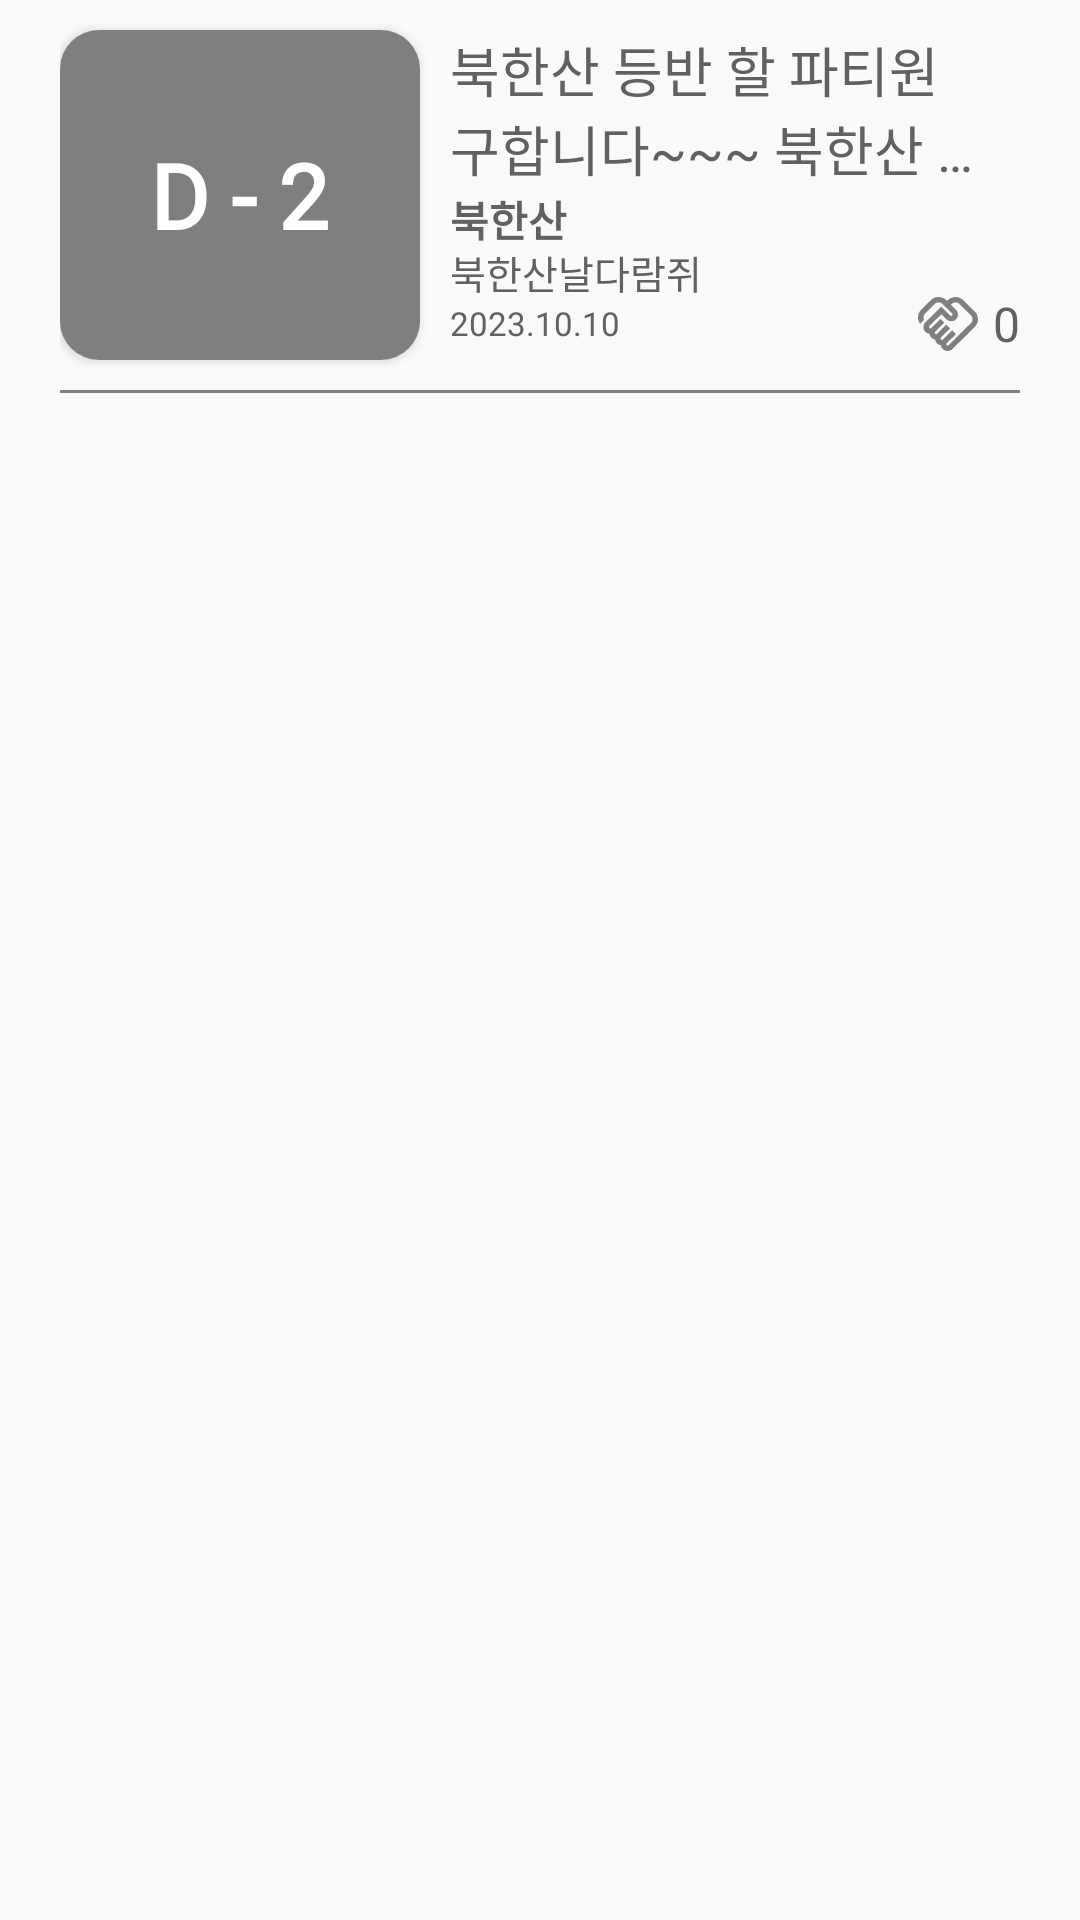

Screen size 1080x1920. Icon name, then its center in pixels as [x,y]:
handshake: [948,324]
